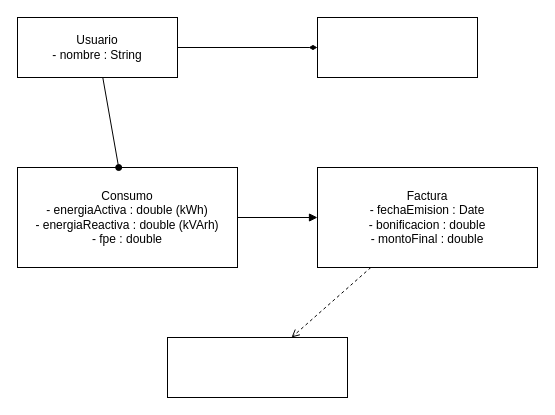
This 555x415 diagram has some shape labels left out. Each missing label, with the centre of its shape:
"CuadroTarifario - precioKWh : double" goes at (x=257, y=367).
"Domicilio - direccion : String" goes at (x=397, y=47).
